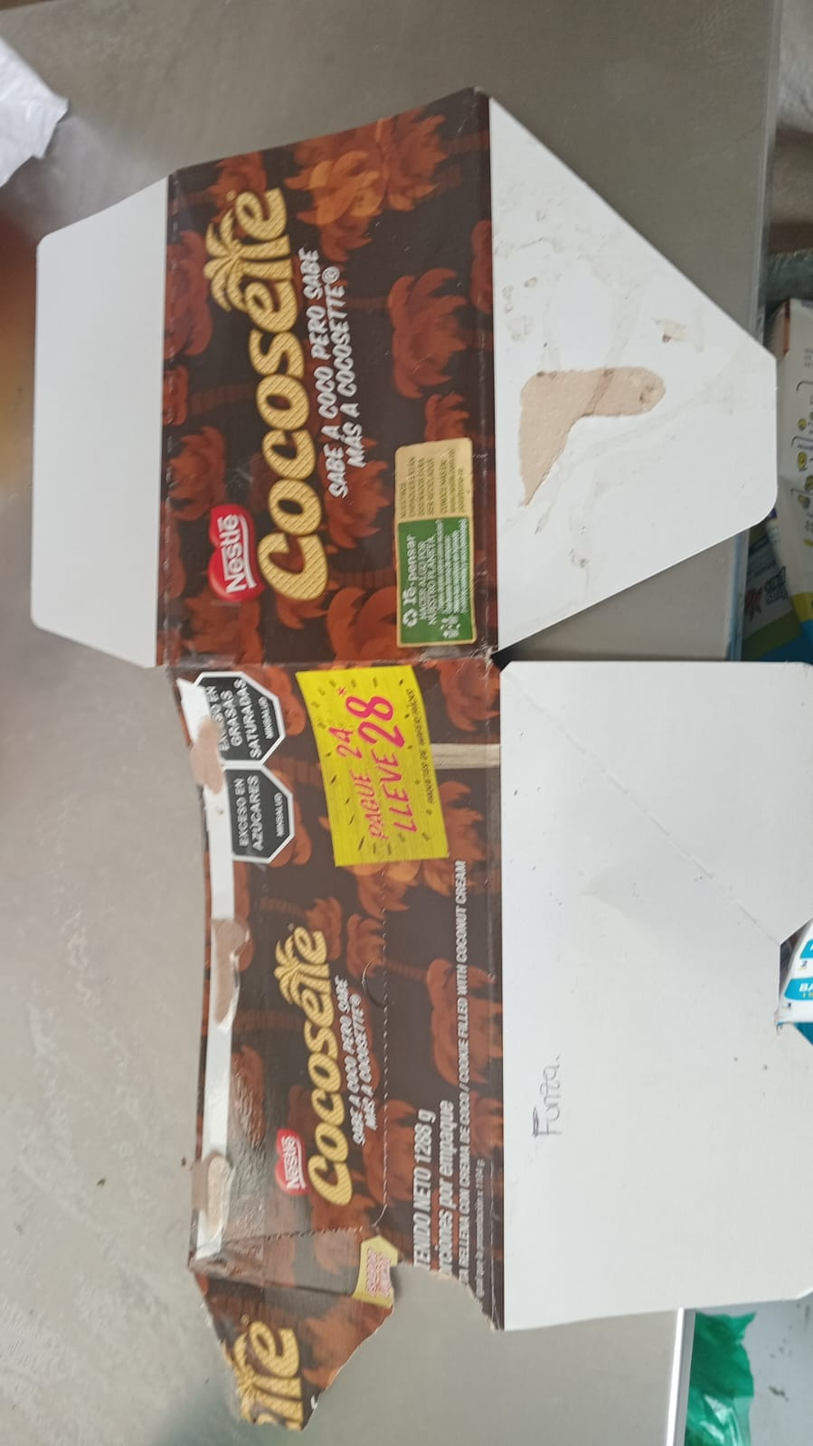Carton: (32, 89, 813, 1428)
